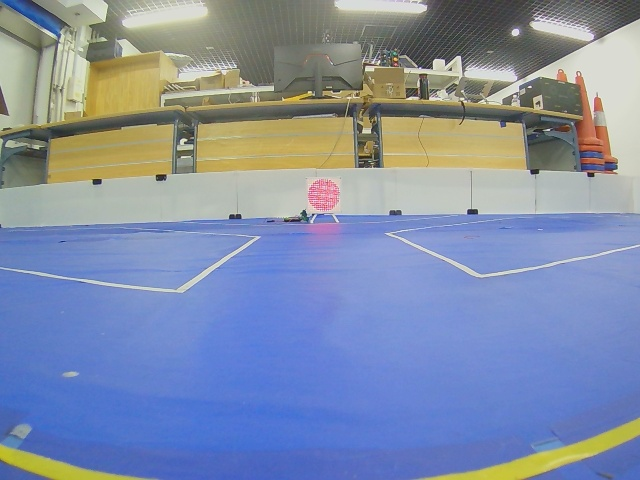red: (307, 178, 341, 213)
